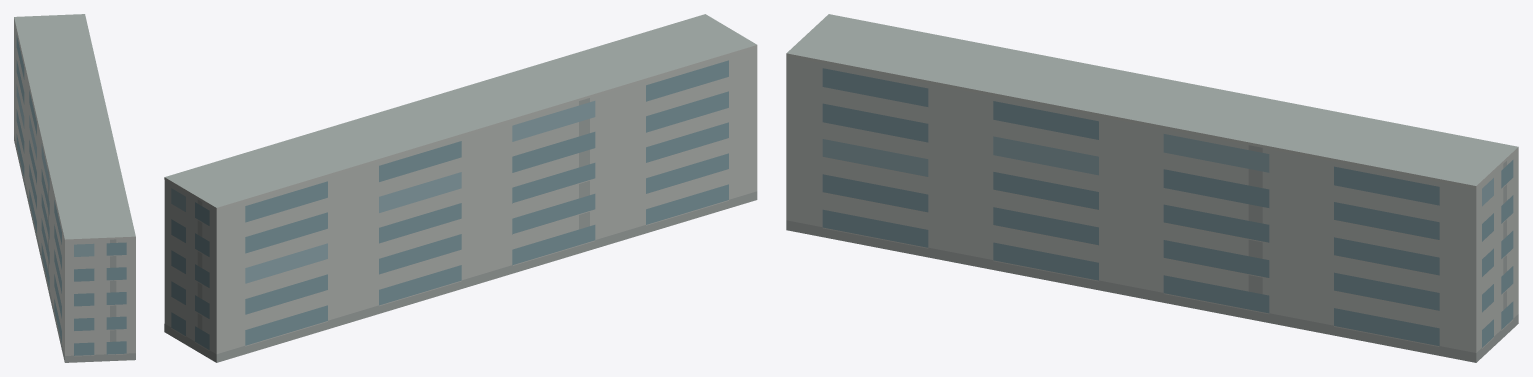
The model's file is residential-397633eb-258c-4d8f-a3d5-5f83d092c5f5.glb.
3 renders of one model, left to right at view 1: azimuth 30°, elevation 25°; view 2: azimuth 150°, elevation 25°; view 3: azimuth 270°, elevation 25°, orthographic. The views are drawn at different scales.
Visible parts, largest first — view 1: residential-397633eb-258c-4d8f-a3d5-5f83d092c5f5.tmp; view 2: residential-397633eb-258c-4d8f-a3d5-5f83d092c5f5.tmp; view 3: residential-397633eb-258c-4d8f-a3d5-5f83d092c5f5.tmp.
Part boxes in pixels (x1,y1,x2,y2): residential-397633eb-258c-4d8f-a3d5-5f83d092c5f5.tmp: [14, 14, 135, 362]; residential-397633eb-258c-4d8f-a3d5-5f83d092c5f5.tmp: [164, 14, 757, 362]; residential-397633eb-258c-4d8f-a3d5-5f83d092c5f5.tmp: [786, 14, 1518, 362].
Size of the model in its own units: 31.84 by 15.25 by 57.24.
